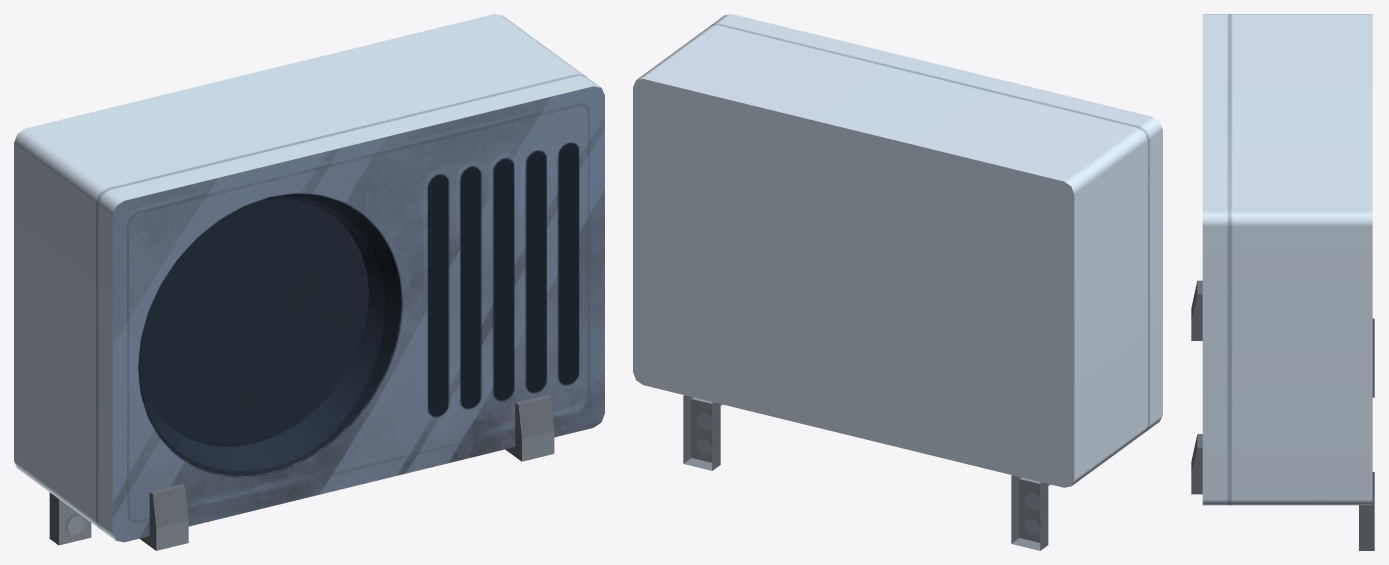
File: AirConditioner.fbx
The picture shows the model from 3 angles, left to right: view 1: azimuth 30°, elevation 25°; view 2: azimuth 150°, elevation 25°; view 3: azimuth 270°, elevation 25°; orthographic projection. The views are drawn at different scales.
Parts seen in each view (by area): view 1: pCube14, pCube271, pCube330; view 2: pCube14, pCube330, pCube271; view 3: pCube14, pCube330, pCube271.
Part boxes in pixels (x1=…): pCube14: x1=14, y1=14, x2=604, y2=542; pCube271: x1=49, y1=484, x2=188, y2=550; pCube330: x1=505, y1=395, x2=554, y2=461; pCube14: x1=633, y1=14, x2=1162, y2=487; pCube330: x1=683, y1=395, x2=722, y2=470; pCube271: x1=1011, y1=475, x2=1049, y2=550; pCube14: x1=1202, y1=14, x2=1372, y2=505; pCube330: x1=1191, y1=434, x2=1374, y2=550; pCube271: x1=1191, y1=280, x2=1374, y2=397.
Size of the model in its own units: 116 by 93.69 by 43.31.
